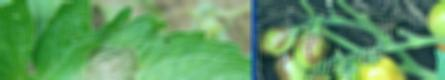Tomato leaf late blight: (0, 0, 251, 80)
